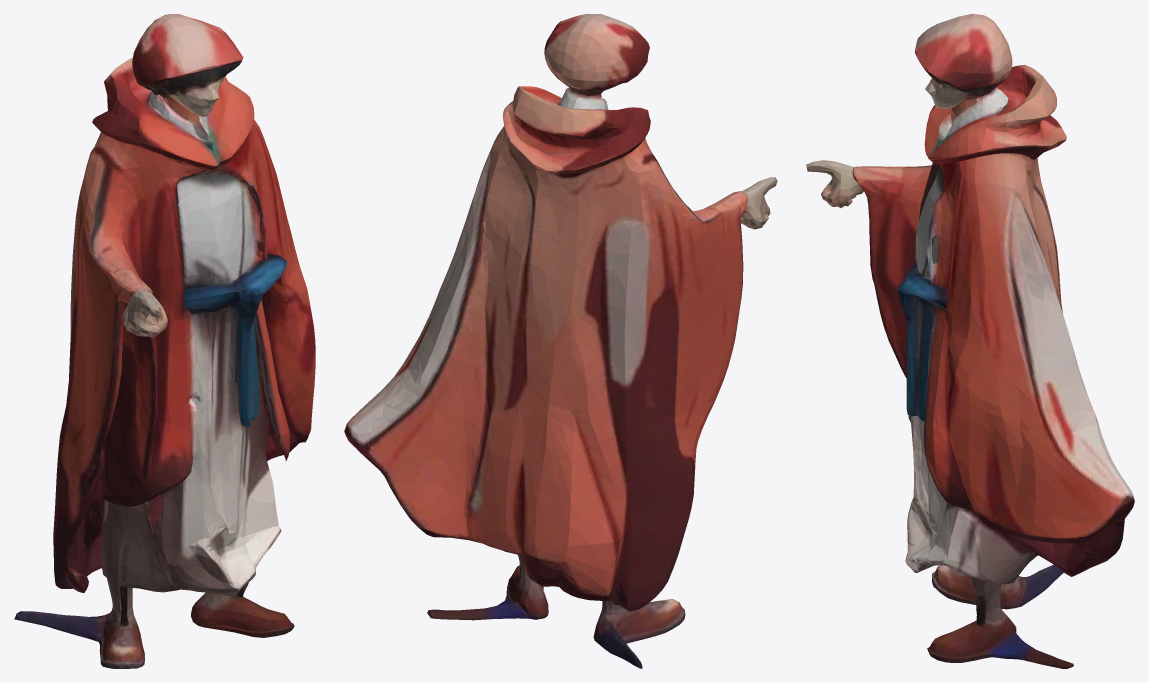
File: anime_medieval_scholar.glb
3 views of the same model, side by side, from view 1: azimuth 30°, elevation 25°; view 2: azimuth 150°, elevation 25°; view 3: azimuth 270°, elevation 25° (orthographic). The views are drawn at different scales.
Visible parts, largest first — view 1: geometry_0; view 2: geometry_0; view 3: geometry_0.
Part boxes in pixels (x1=…): geometry_0: x1=14, y1=14, x2=315, y2=668; geometry_0: x1=344, y1=14, x2=777, y2=668; geometry_0: x1=806, y1=14, x2=1134, y2=668.
Size of the model in its own units: 0.508 by 0.9995 by 0.4947.
1 material, 1 textured.
